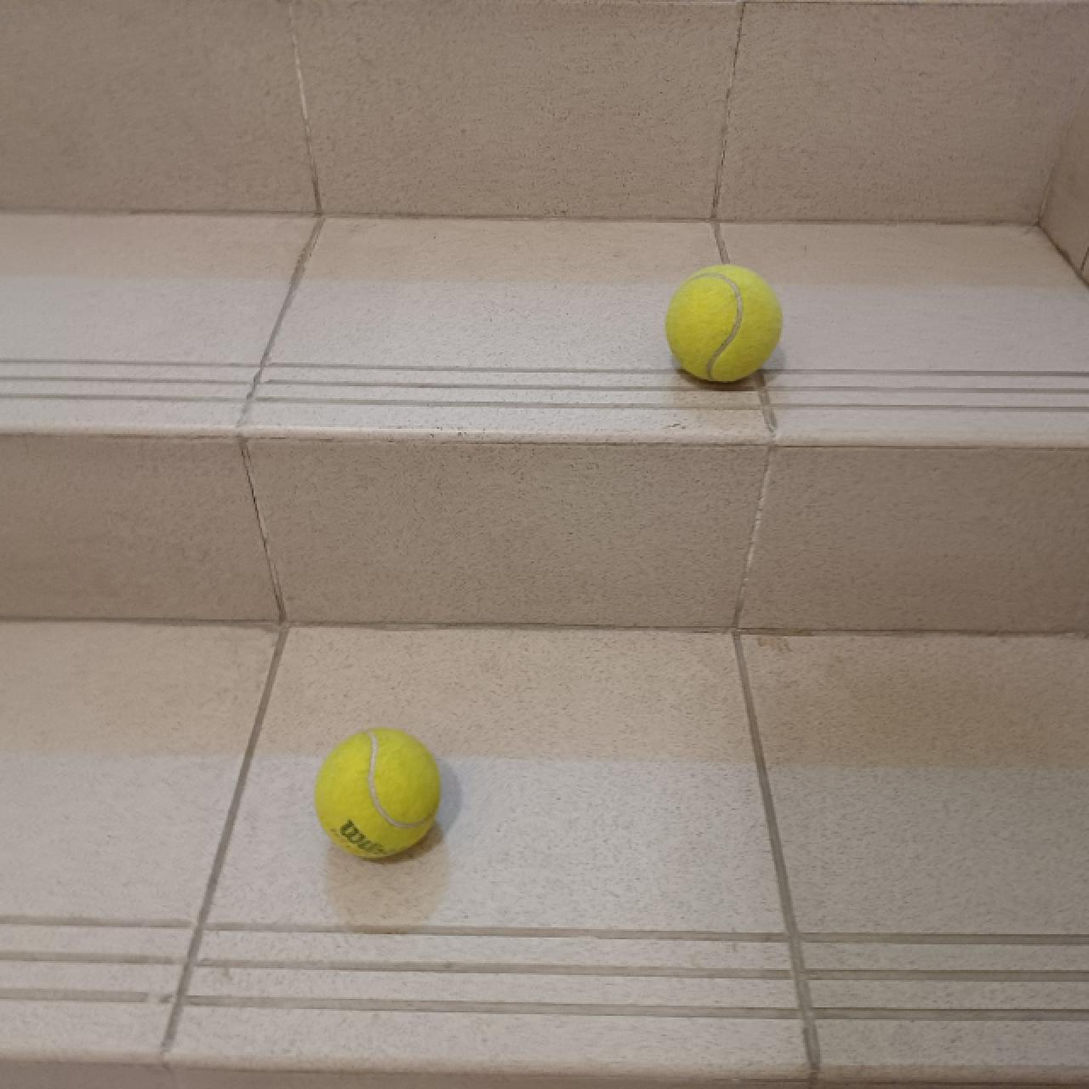tennis-ball: (312, 724, 444, 862), (664, 263, 784, 384)
